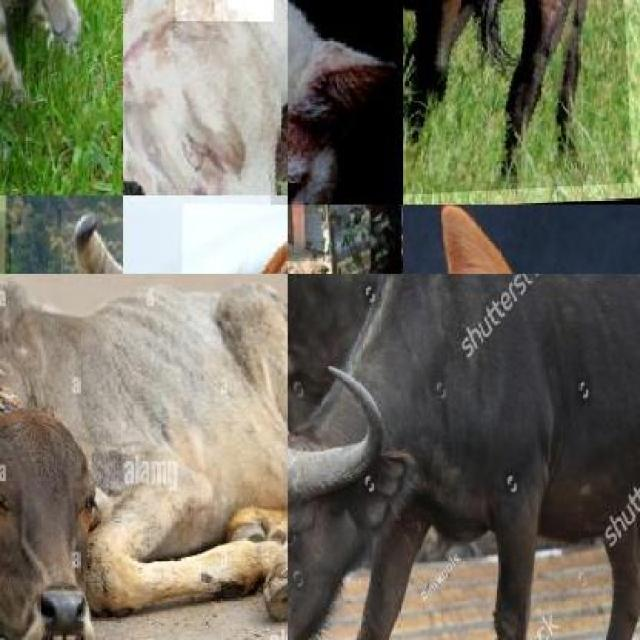buffalo: (287, 274, 640, 640), (403, 0, 632, 202), (288, 274, 395, 408)
cat: (288, 0, 403, 205)
cow: (0, 274, 288, 640), (123, 0, 287, 195), (51, 209, 123, 274)
